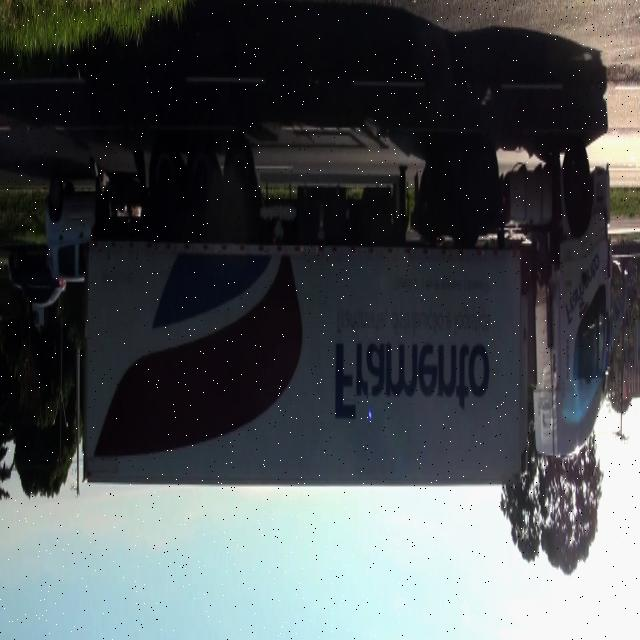-axle: (146, 135, 182, 221), (224, 143, 256, 224), (466, 142, 498, 222), (187, 144, 219, 220), (565, 147, 592, 237), (433, 150, 458, 221)
